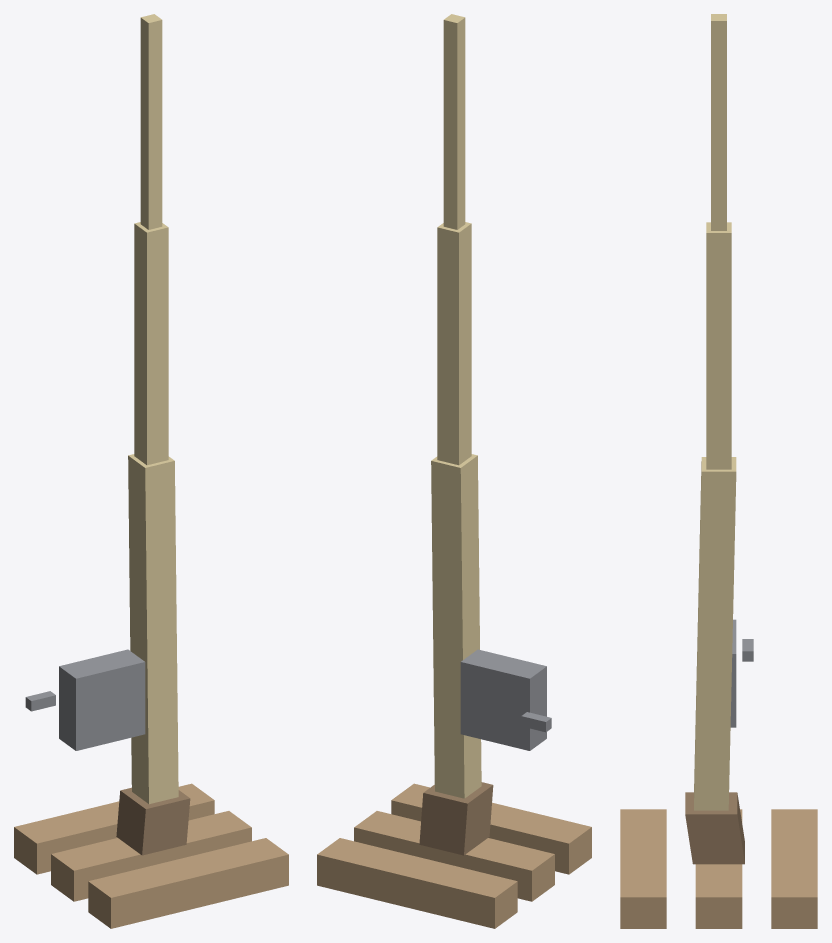
File: hy4_cana_rojo_20261108.glb
3 renders of one model, left to right at view 1: azimuth 30°, elevation 25°; view 2: azimuth 150°, elevation 25°; view 3: azimuth 270°, elevation 25°, orthographic.
Visible parts, largest first — view 1: SM_Cana_Vara_NOFUNDIR, SM_Cana_Basa_NOFUNDIR, SM_Cana_Carrete_NOFUNDIR, SM_Cana_Mango_NOFUNDIR; view 2: SM_Cana_Vara_NOFUNDIR, SM_Cana_Basa_NOFUNDIR, SM_Cana_Carrete_NOFUNDIR, SM_Cana_Mango_NOFUNDIR; view 3: SM_Cana_Vara_NOFUNDIR, SM_Cana_Basa_NOFUNDIR, SM_Cana_Mango_NOFUNDIR, SM_Cana_Carrete_NOFUNDIR.
Boxes of the visible parts, x1,y1,x2,y2 form: SM_Cana_Vara_NOFUNDIR: [128, 14, 178, 804]; SM_Cana_Basa_NOFUNDIR: [14, 783, 288, 928]; SM_Cana_Carrete_NOFUNDIR: [25, 649, 145, 750]; SM_Cana_Mango_NOFUNDIR: [116, 787, 190, 855]; SM_Cana_Vara_NOFUNDIR: [431, 14, 481, 798]; SM_Cana_Basa_NOFUNDIR: [317, 783, 591, 928]; SM_Cana_Carrete_NOFUNDIR: [460, 649, 551, 750]; SM_Cana_Mango_NOFUNDIR: [419, 782, 493, 855]; SM_Cana_Vara_NOFUNDIR: [694, 14, 736, 810]; SM_Cana_Basa_NOFUNDIR: [620, 809, 817, 928]; SM_Cana_Mango_NOFUNDIR: [685, 792, 744, 864]; SM_Cana_Carrete_NOFUNDIR: [730, 619, 753, 727].
Bounding box in the file's own units: 0.4 × 1.65 × 0.34.
